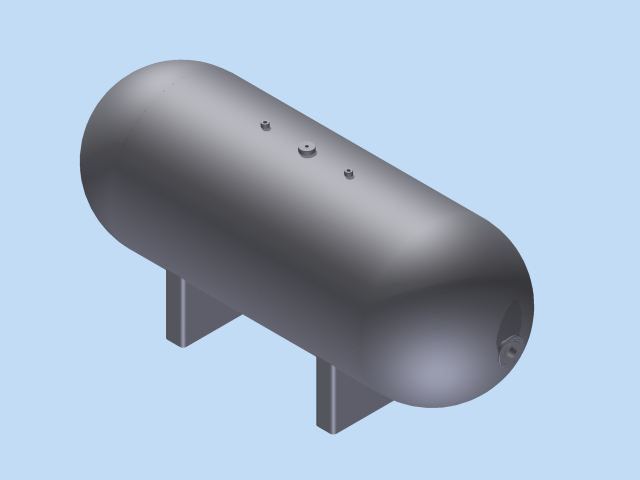nozzle: (489, 326, 530, 372)
